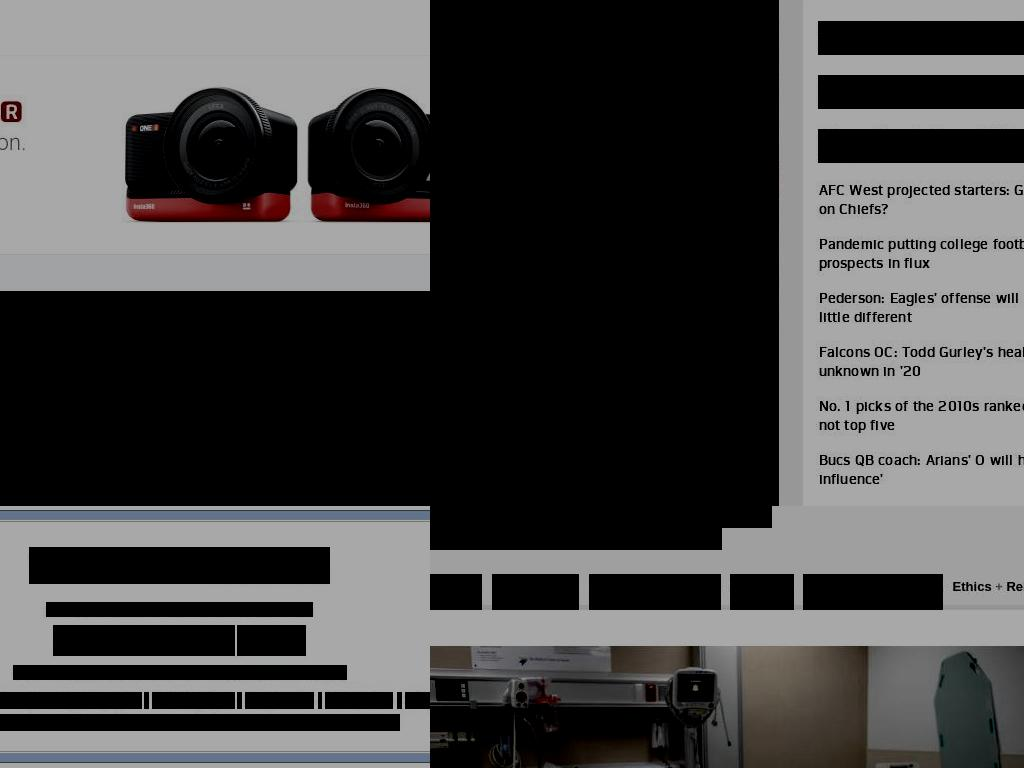button: (430, 0, 779, 506), (430, 646, 1024, 768), (430, 506, 772, 528), (803, 574, 943, 610), (589, 574, 721, 610), (492, 574, 579, 610), (952, 574, 1024, 610), (730, 574, 794, 610), (430, 574, 482, 610)
field: (53, 625, 235, 656), (237, 625, 306, 656)
heading: (430, 368, 747, 405), (29, 547, 201, 584), (199, 547, 330, 584)
image: (430, 0, 779, 320), (0, 324, 430, 506), (430, 646, 1024, 768), (430, 506, 772, 528)
link: (430, 420, 747, 490), (818, 21, 1024, 55), (818, 75, 1024, 109), (818, 129, 1024, 163), (818, 183, 1024, 217), (818, 237, 1024, 271), (818, 291, 1024, 325), (818, 345, 1024, 379), (818, 399, 1024, 433), (818, 453, 1024, 487), (430, 340, 747, 353), (0, 692, 142, 709), (204, 665, 347, 680), (202, 602, 313, 617), (152, 692, 235, 709), (94, 602, 175, 617), (0, 714, 70, 731), (245, 692, 314, 709), (325, 692, 393, 709), (77, 665, 123, 680), (405, 692, 430, 709)
text: (0, 291, 430, 506), (430, 528, 722, 550), (69, 714, 400, 731), (803, 579, 887, 594), (123, 665, 205, 680), (13, 665, 79, 680), (589, 579, 652, 594), (658, 579, 720, 594), (529, 579, 579, 594), (894, 579, 942, 594), (952, 579, 995, 594), (492, 579, 523, 594), (174, 602, 203, 617), (67, 602, 94, 617), (46, 602, 68, 617), (1002, 579, 1024, 594), (521, 579, 530, 594), (651, 579, 660, 594), (886, 579, 895, 594), (995, 579, 1004, 594), (144, 692, 149, 709), (237, 692, 242, 709), (397, 692, 402, 709), (318, 692, 322, 709)
